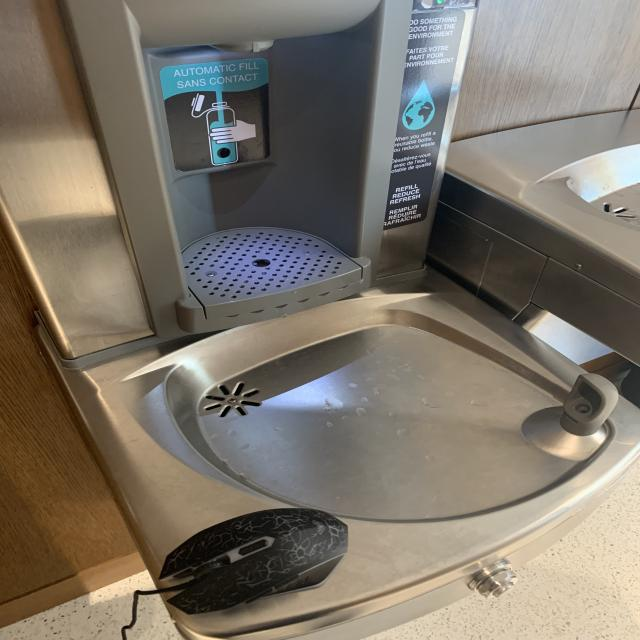Mouse: (129, 502, 362, 622)
